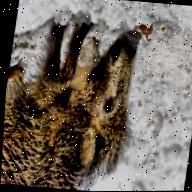boar: (0, 5, 163, 192)
